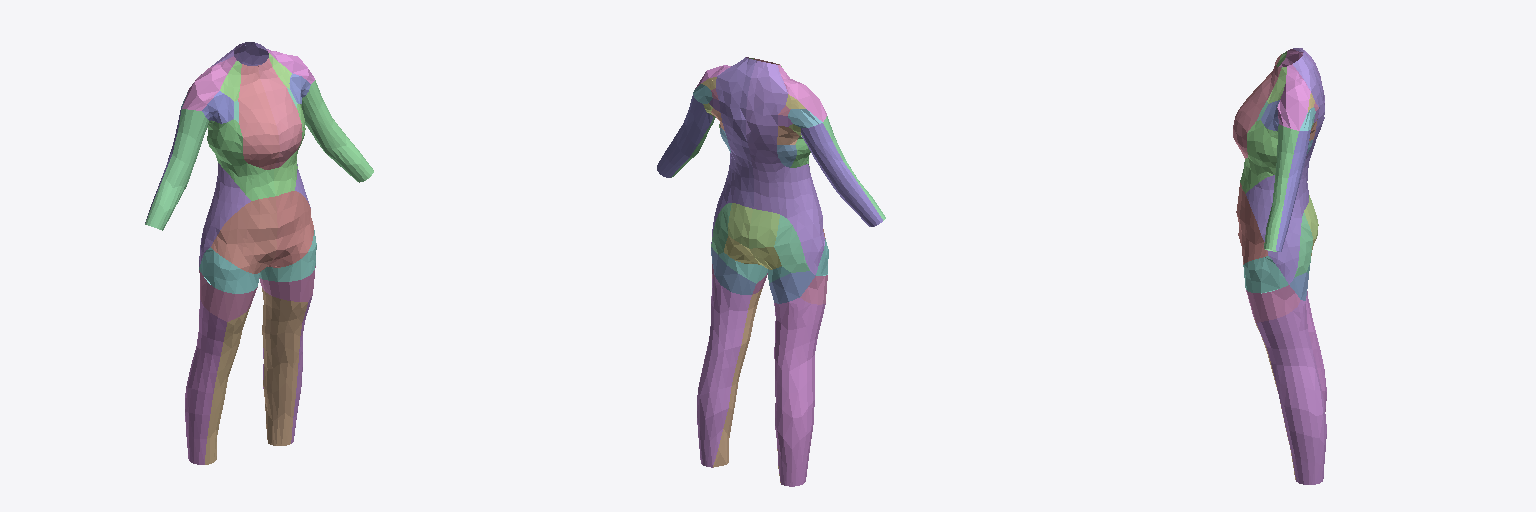
Rendered from wet_patch.obj.
3 renders of one model, left to right at view 1: azimuth 30°, elevation 25°; view 2: azimuth 150°, elevation 25°; view 3: azimuth 270°, elevation 25°, orthographic.
Bounding box in the file's own units: 2.47 × 4.26 × 0.8918.